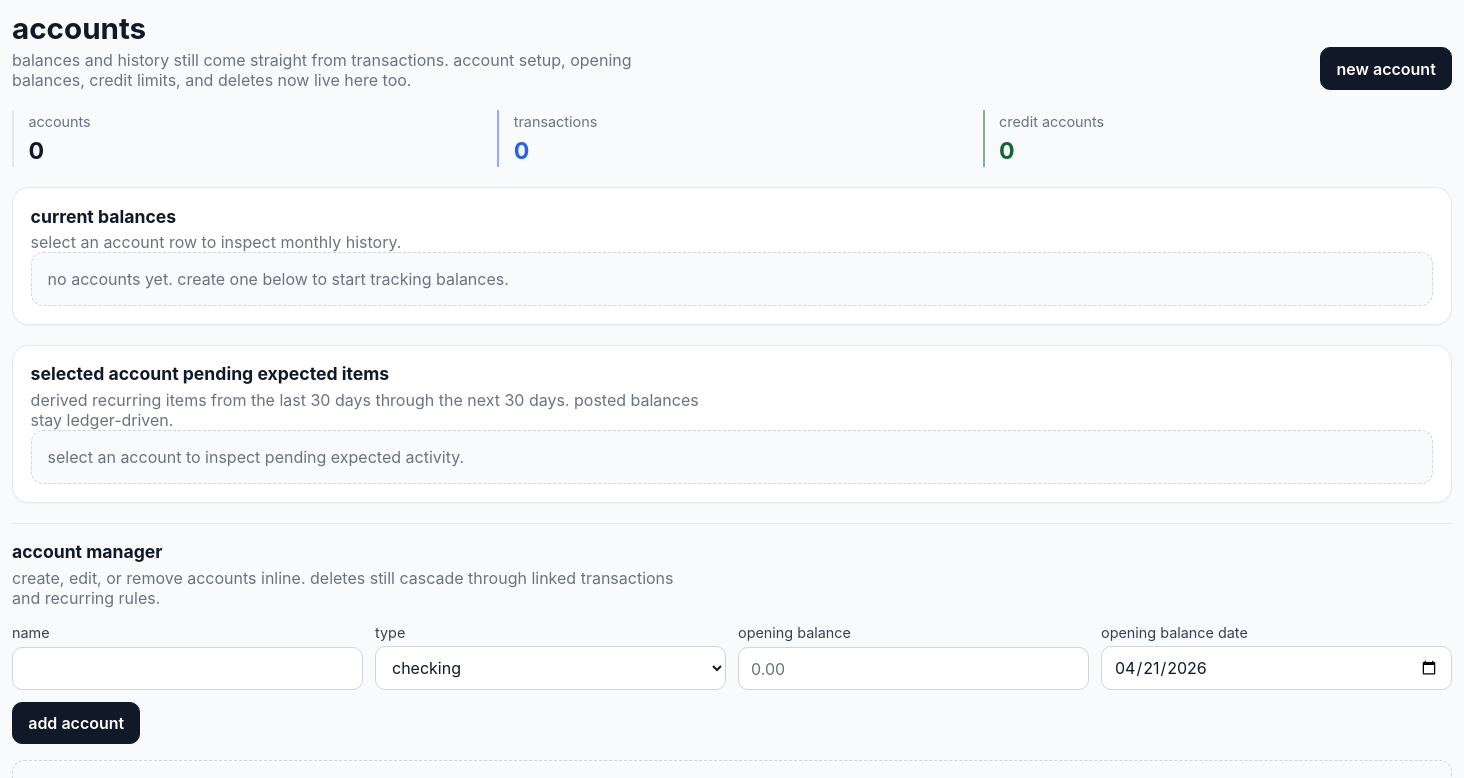
Scenario: accounts page opening-balance and delete flows › stores credit opening balances as owed amounts and reduces available credit
Type "visa" into the field labelled "name" at (188,669), box [12,648,363,690]
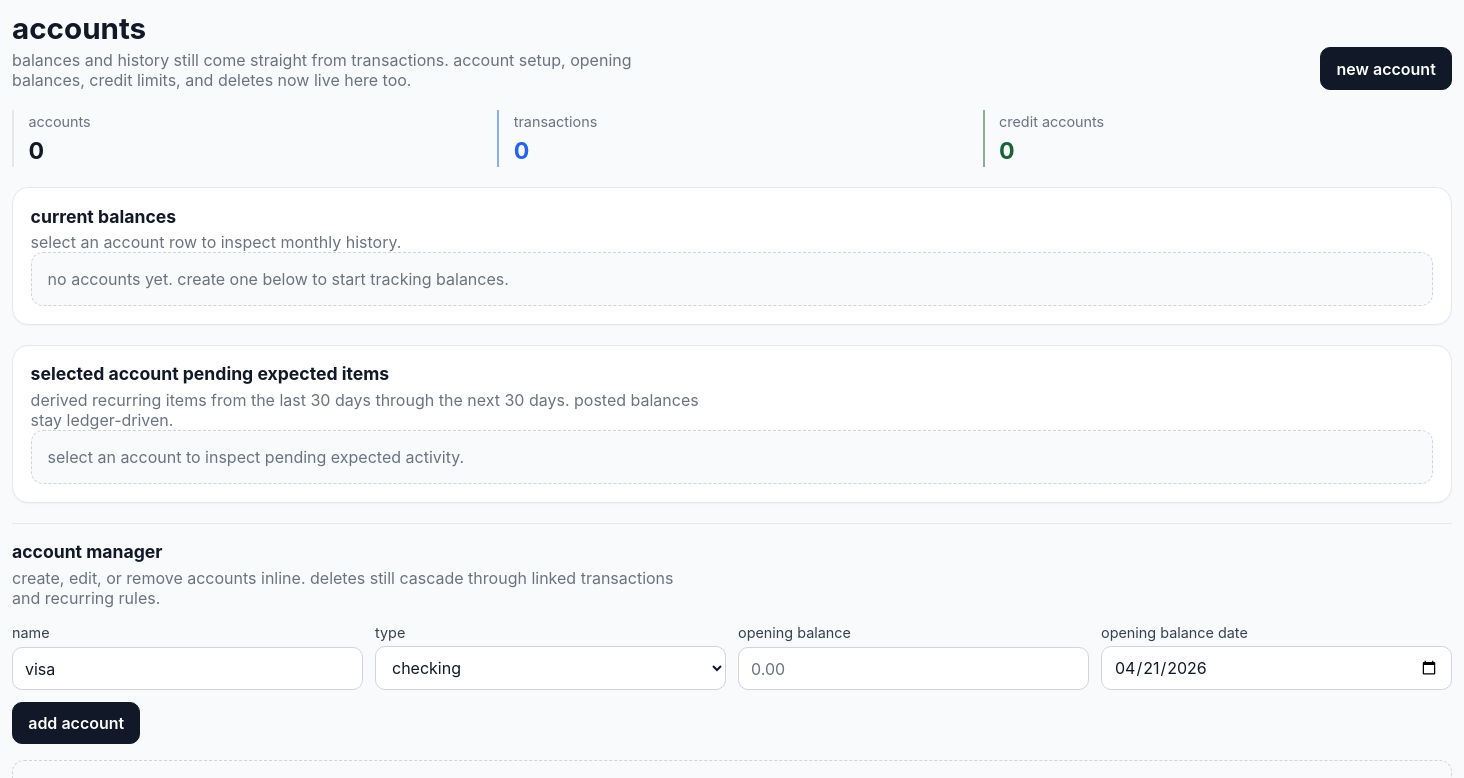
Select "credit" in the dropdown labelled "type" at (550,668), box [375,646,726,690]
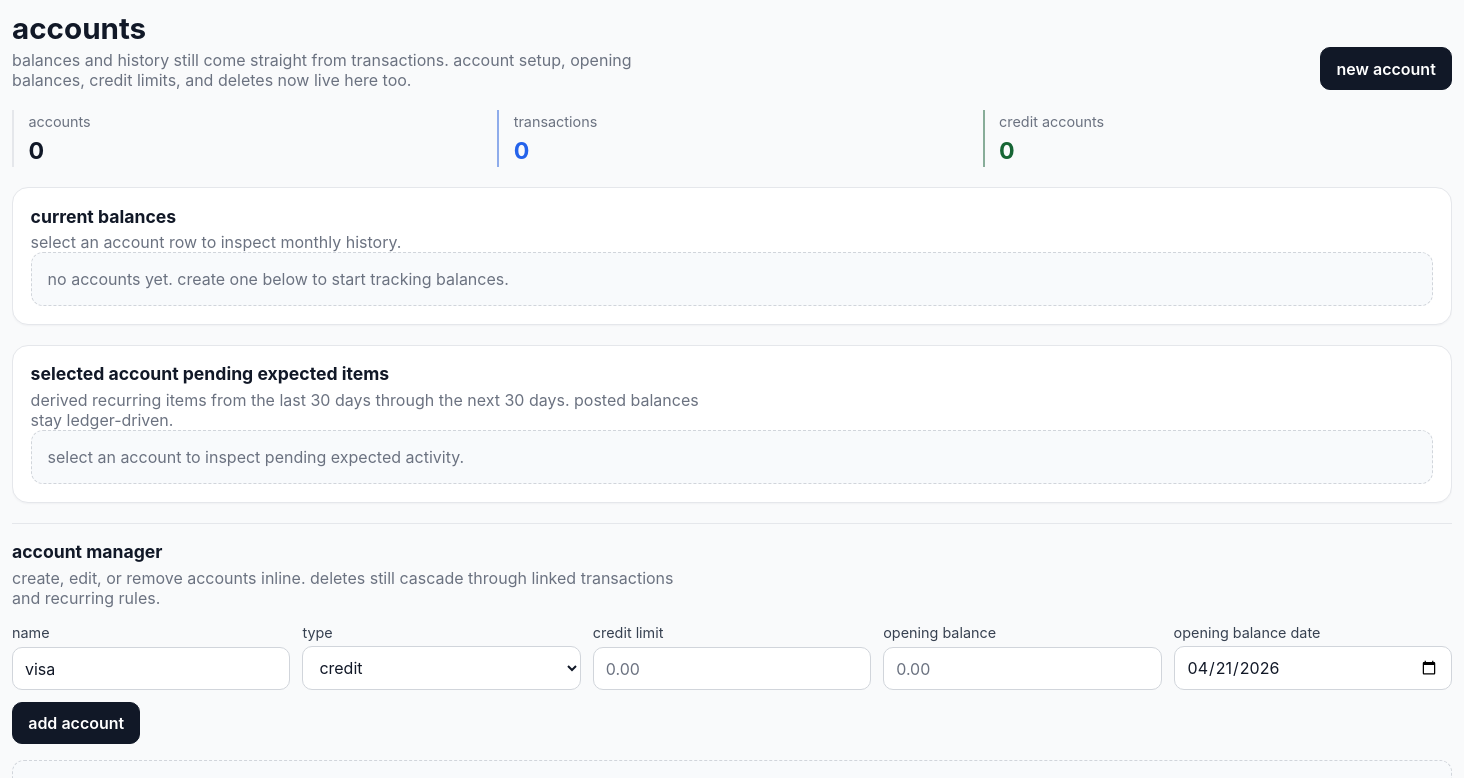
Type "1000.00" into the field labelled "credit limit" at (732,669), box [593,648,871,690]
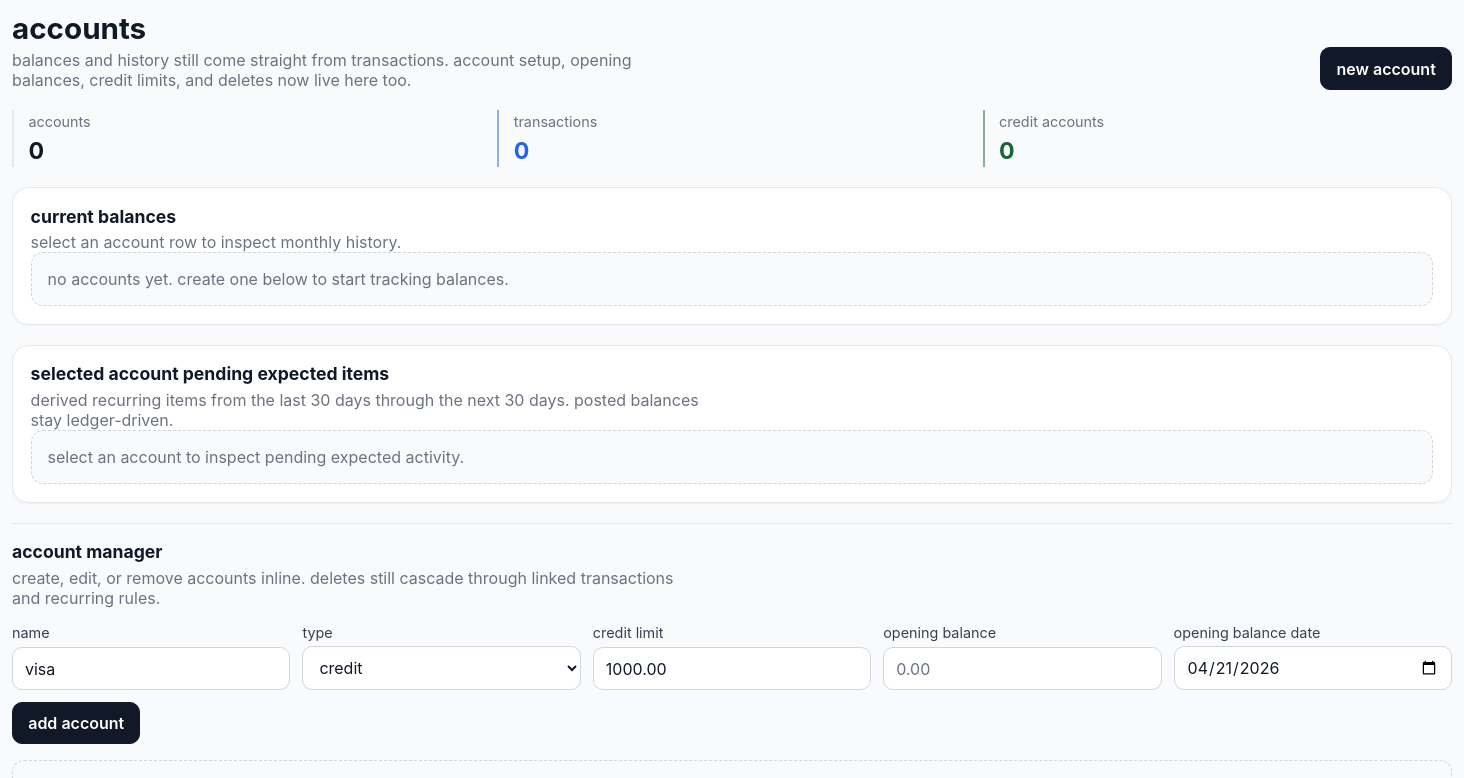
Type "200.00" into the field labelled "opening balance" at (1022,669), box [883,648,1162,690]
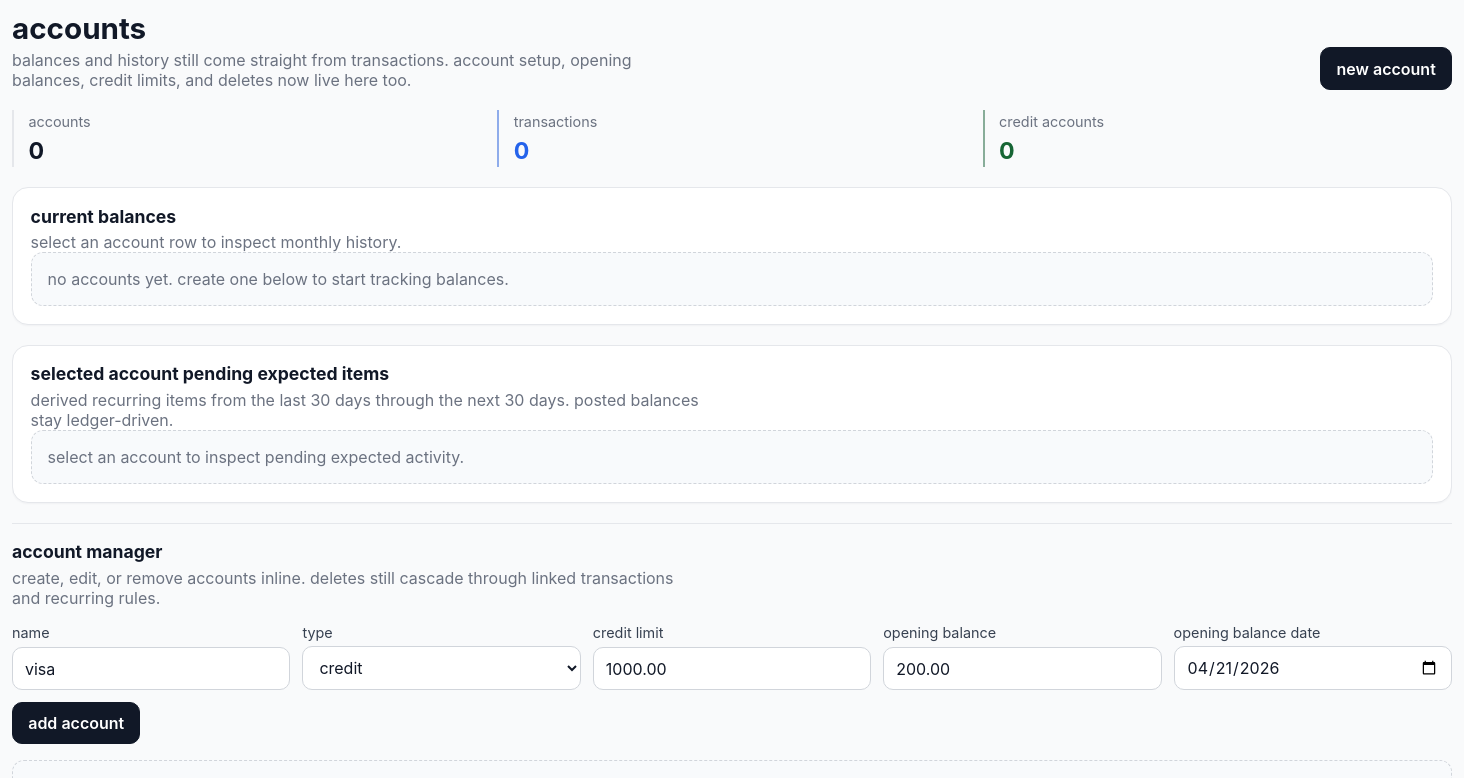
Type "2026-04-01" into the date field labelled "opening balance date" at (1313,668), box [1174,646,1452,690]
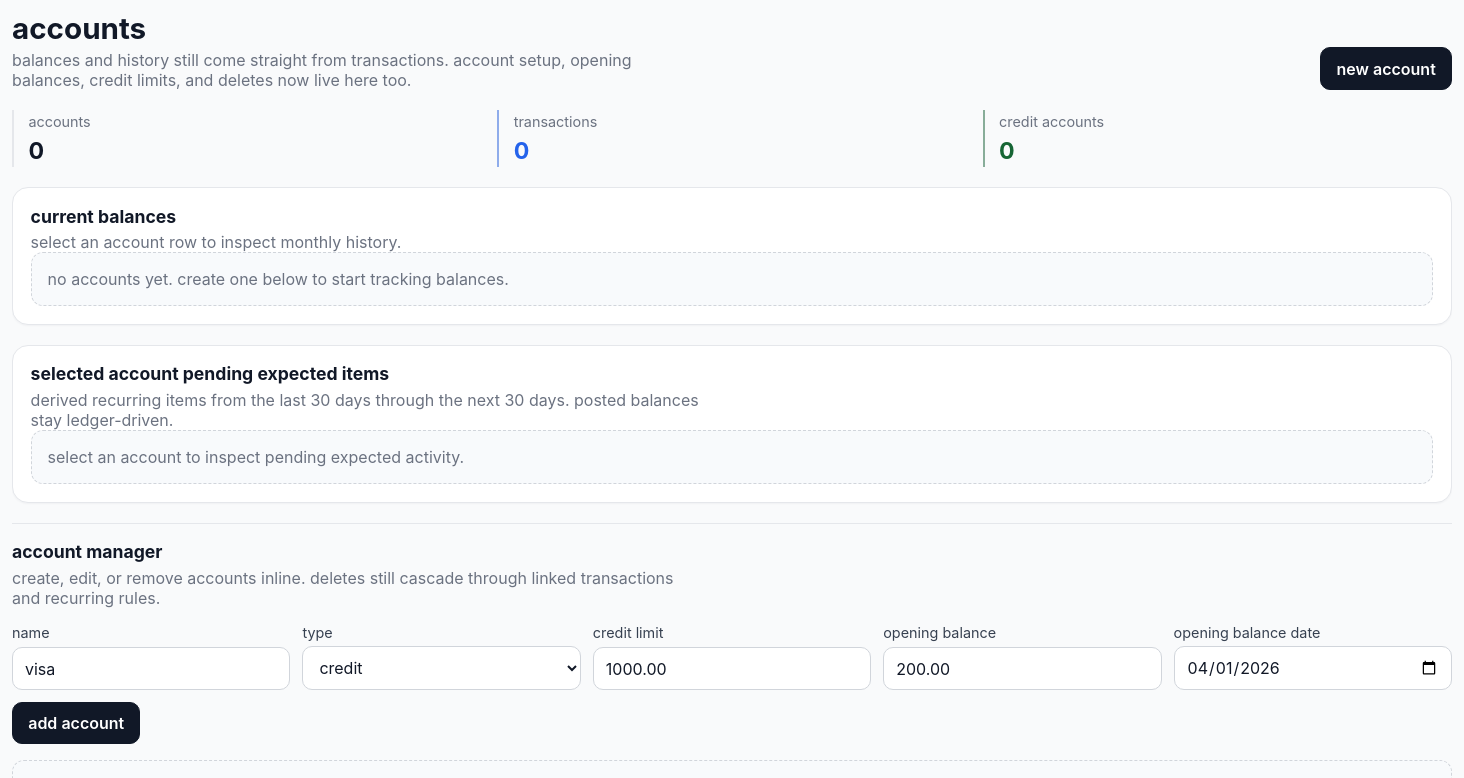
Click the button "add account" at (76,723), box [12,702,140,744]
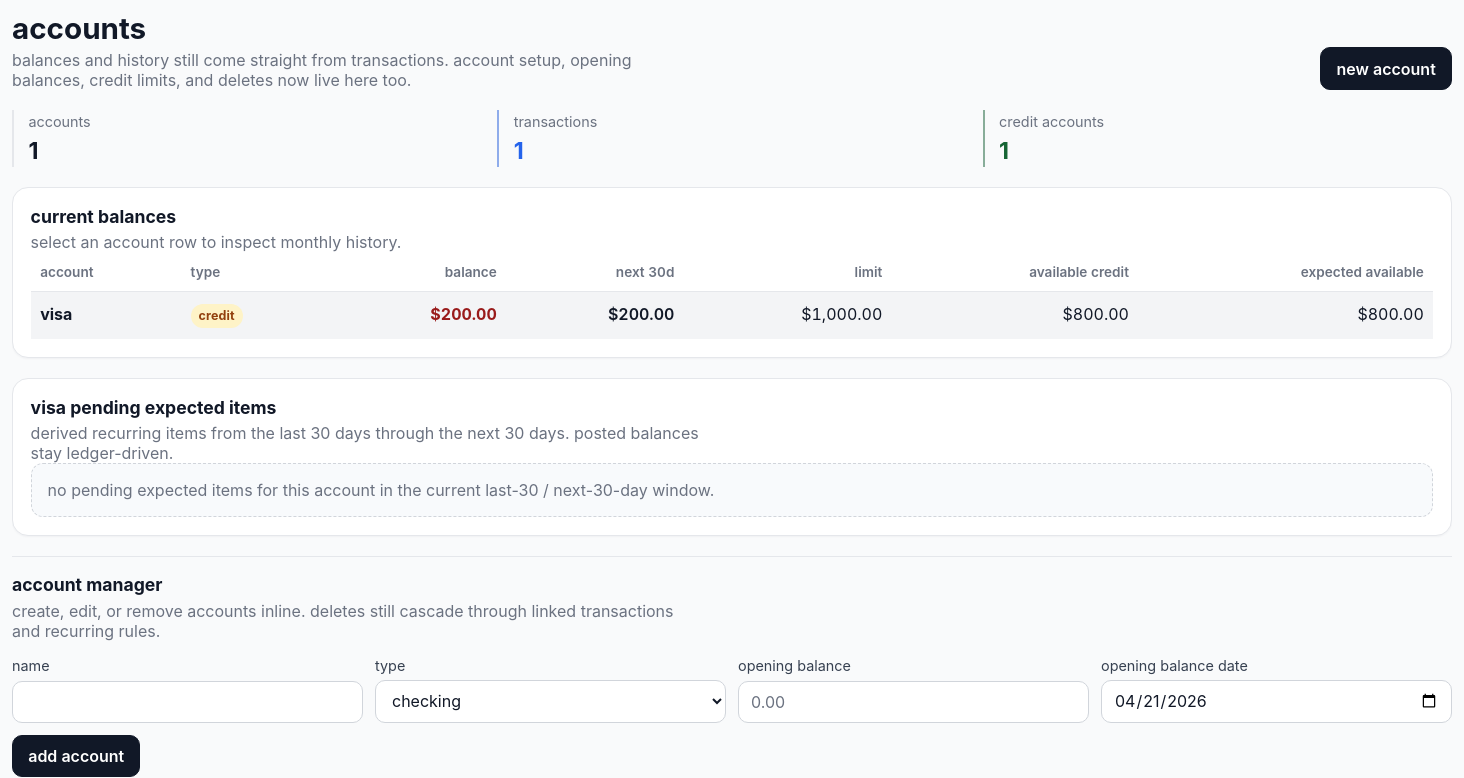
Expected: the text "$1,000.00" is shown, [684,292,892,339]
Expected: the 1st text "$800.00" is shown, [892,292,1139,339]
